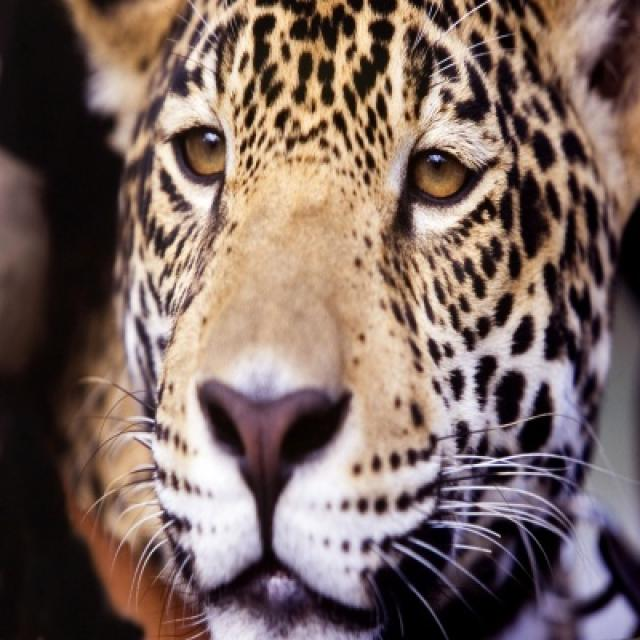Jaguar: (62, 0, 638, 638)
